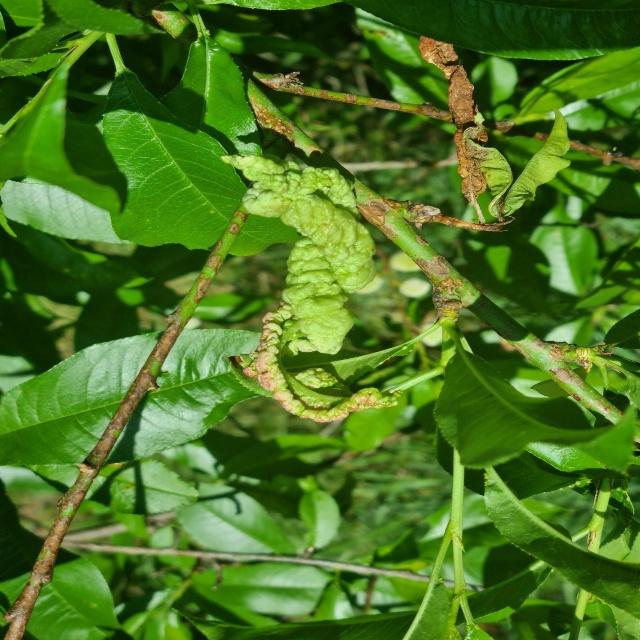leaf_curl: (179, 110, 399, 455)
